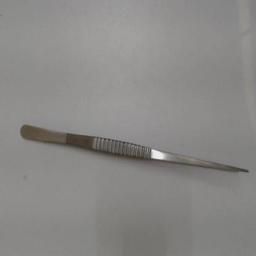DeBakey Dissector: (9, 115, 253, 187)
